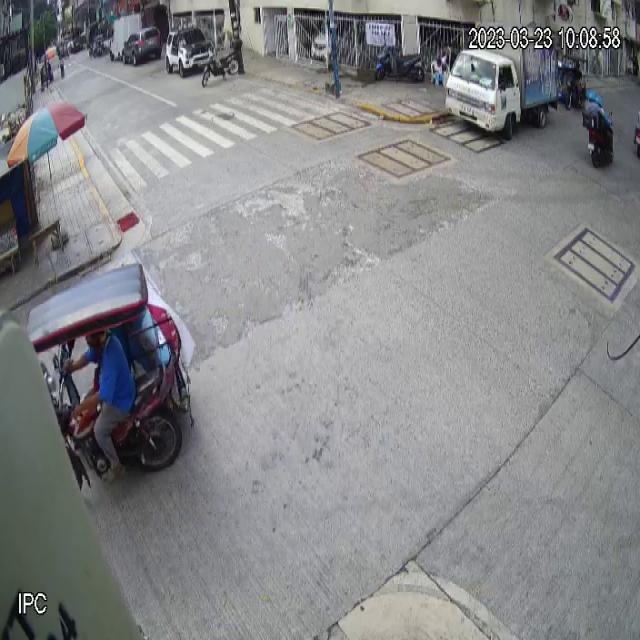Motorcycle: (582, 107, 614, 168)
Tricycle: (24, 262, 192, 482)
Truck: (442, 37, 562, 140)
